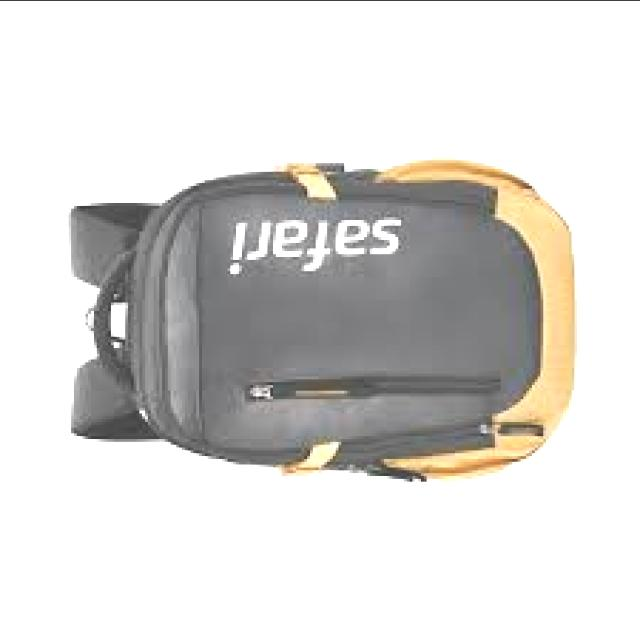backpack: (67, 158, 576, 485)
